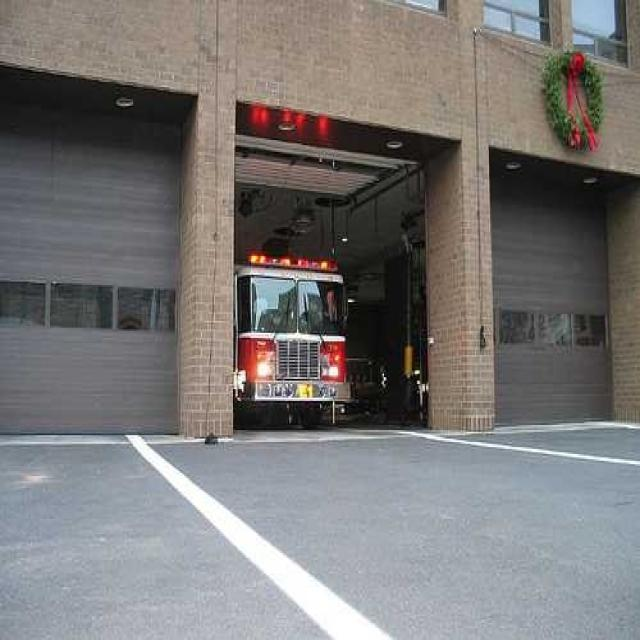ambulance: (236, 251, 354, 425)
